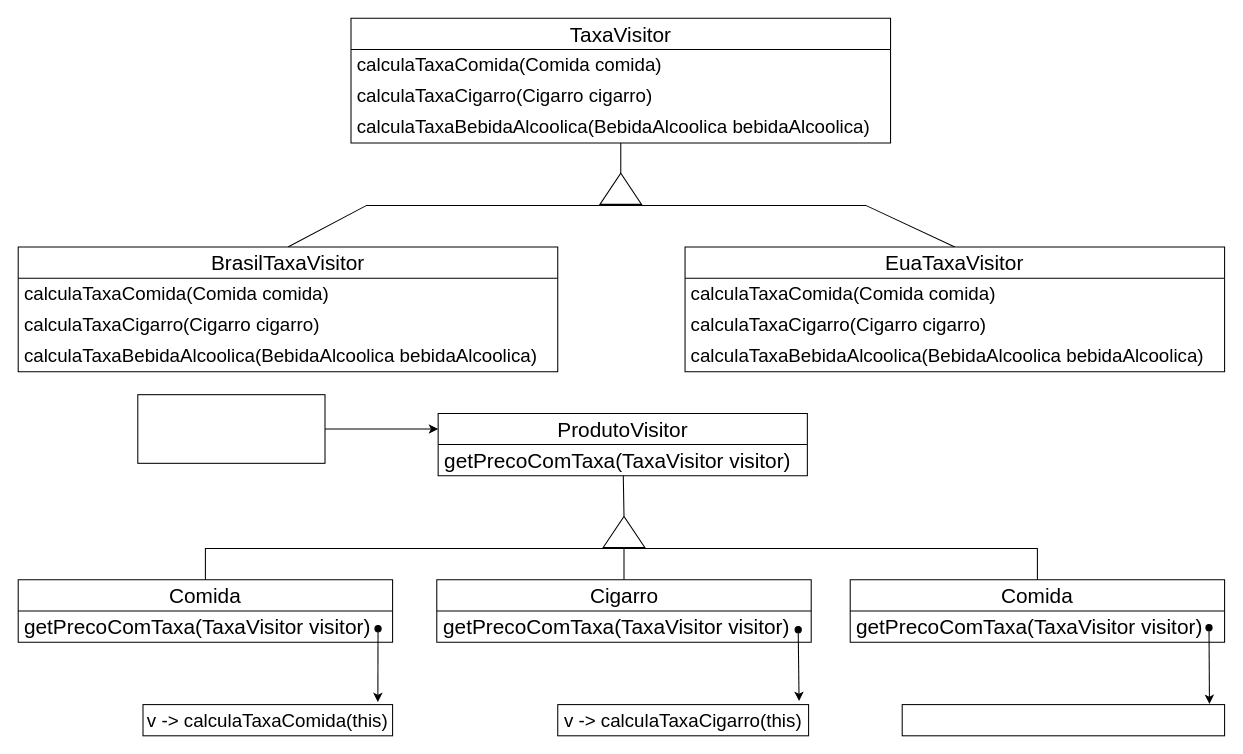
The diagram is 1243 pixels wide and 754 high, and some of its shapes have lost their labels. The shapes that lost their labels are listed below. From the top down, each one's centre as x and y in pixels, then its label:
At (231,428): "Program".
At (1063,720): "v -> calculaTaxaBebidaAlcoolica (this)".
